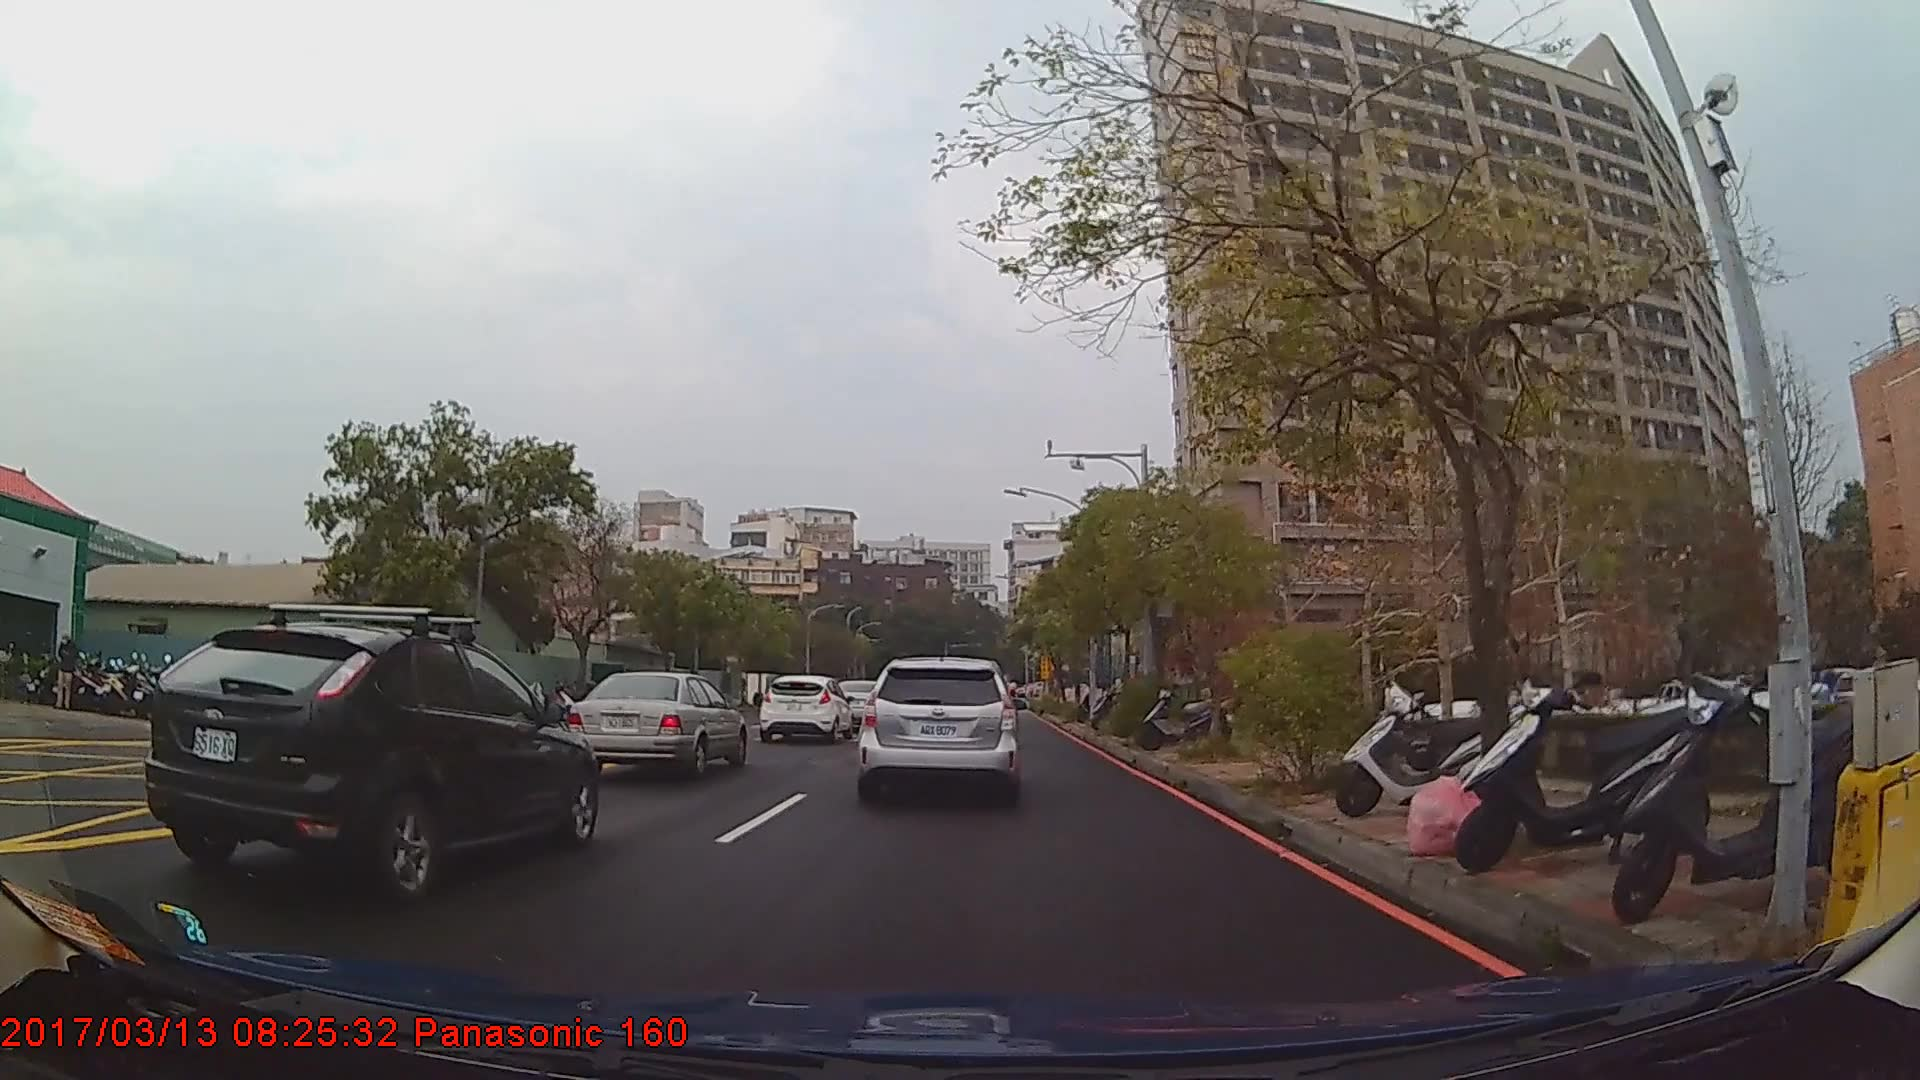pedestrian: (55, 633, 80, 711)
vehicle: (144, 621, 598, 897), (856, 652, 1017, 802), (561, 669, 747, 777), (757, 672, 854, 746)
